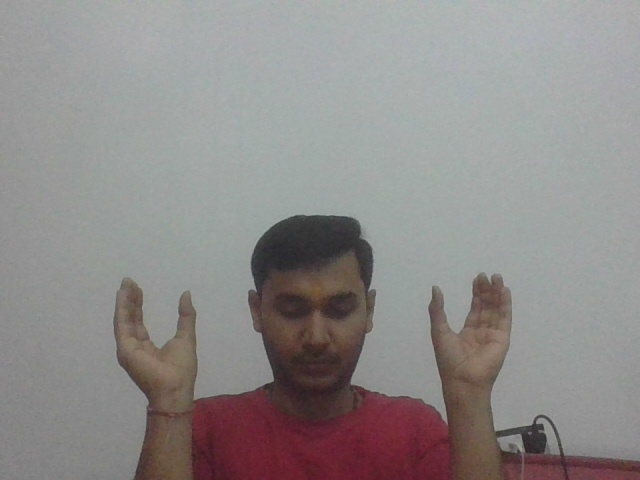U: (430, 272, 518, 394), (111, 274, 200, 393)
